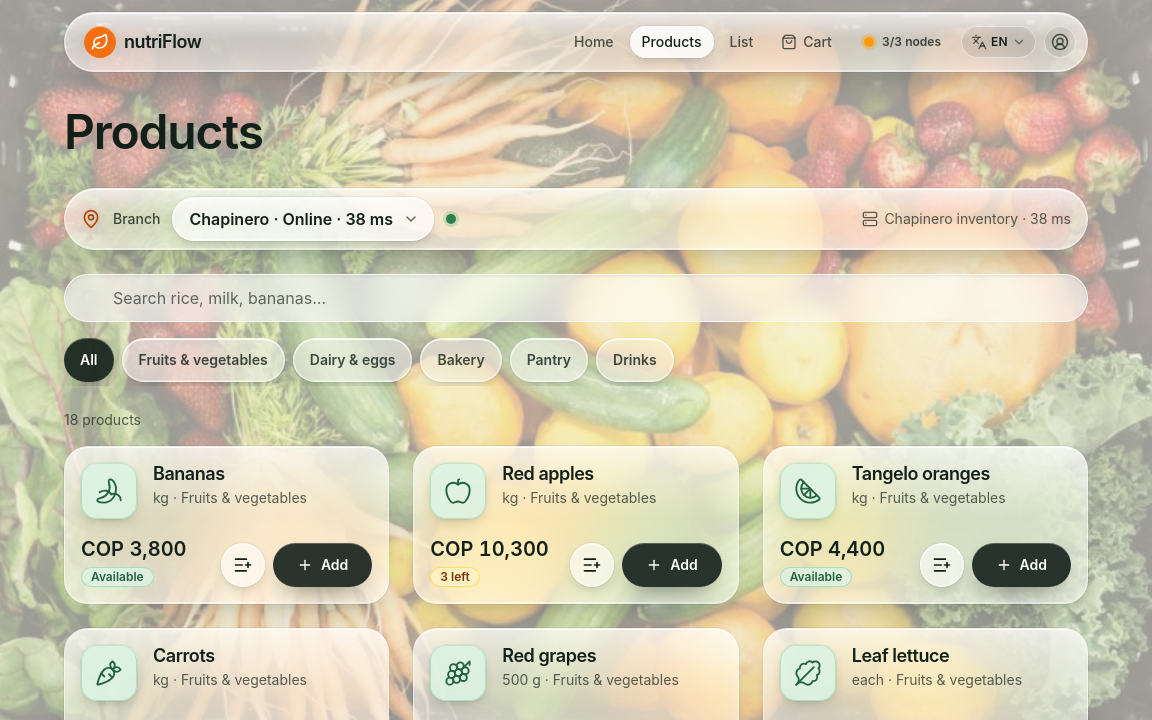
Branch picker › lists every branch with its health and switches the active one
The image size is (1152, 720).
Expected: the text "18 products" is shown, [64, 411, 141, 428]
What coordinates should you click on to do the following:
click the dropdown named "Branch"
I would click on:
 (303, 219)
Its box is [172, 197, 434, 241].
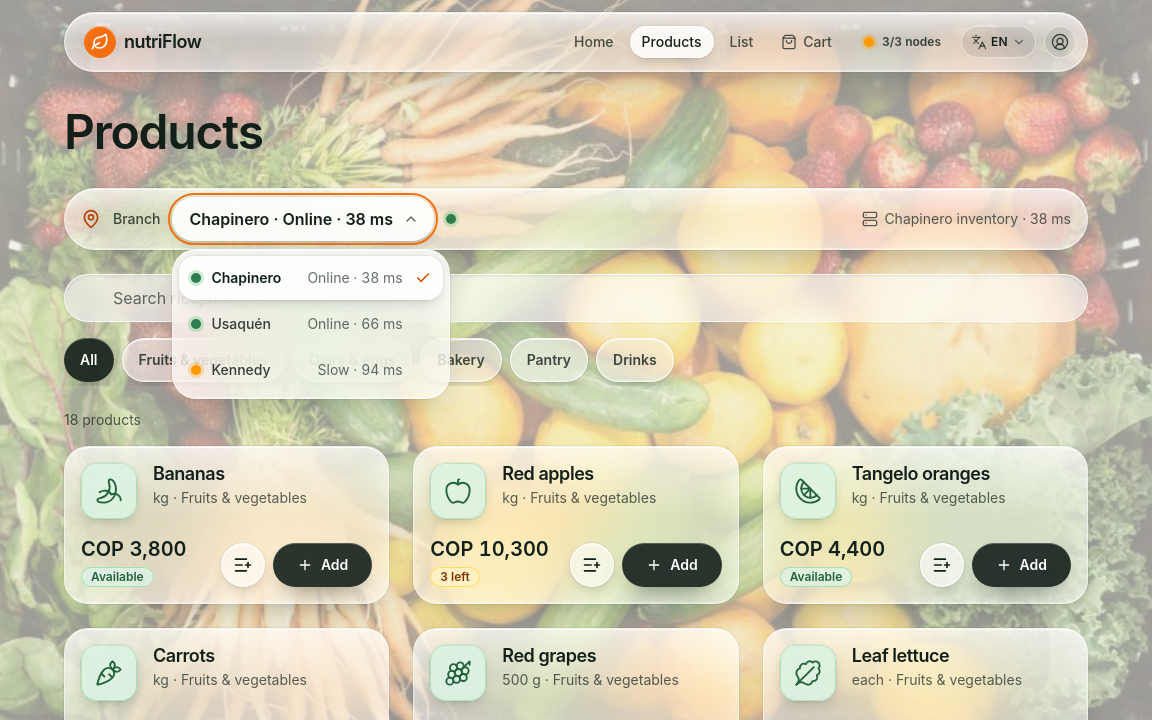
Now the number of options is 3
Now the option "Kennedy Slow · 94 ms" is shown, box [191, 360, 403, 378]
What coordinates should you click on to do the following:
click the option "Usaquén Online · 66 ms"
I would click on:
 (241, 324)
Its box is [191, 314, 403, 332].
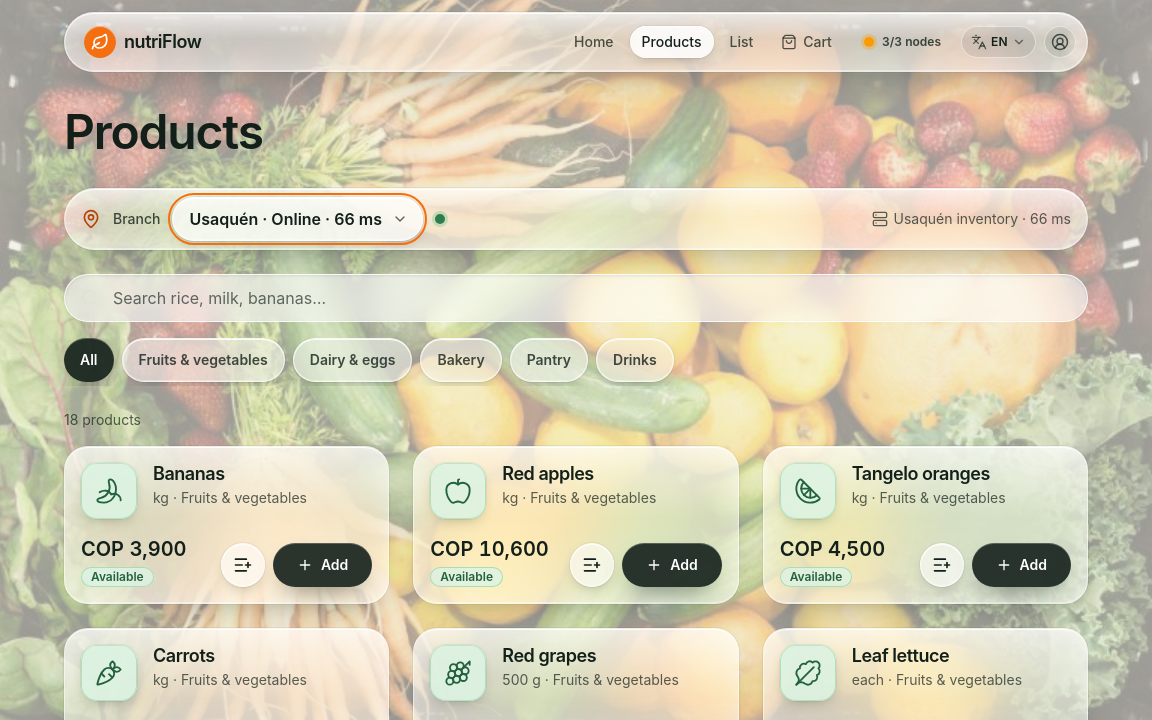
Now the dropdown named "Branch" shows "Usaquén · Online", box [172, 197, 423, 241]
Now the element with test id "data-source" shows "Usaquén inventory", box [894, 210, 1071, 227]
